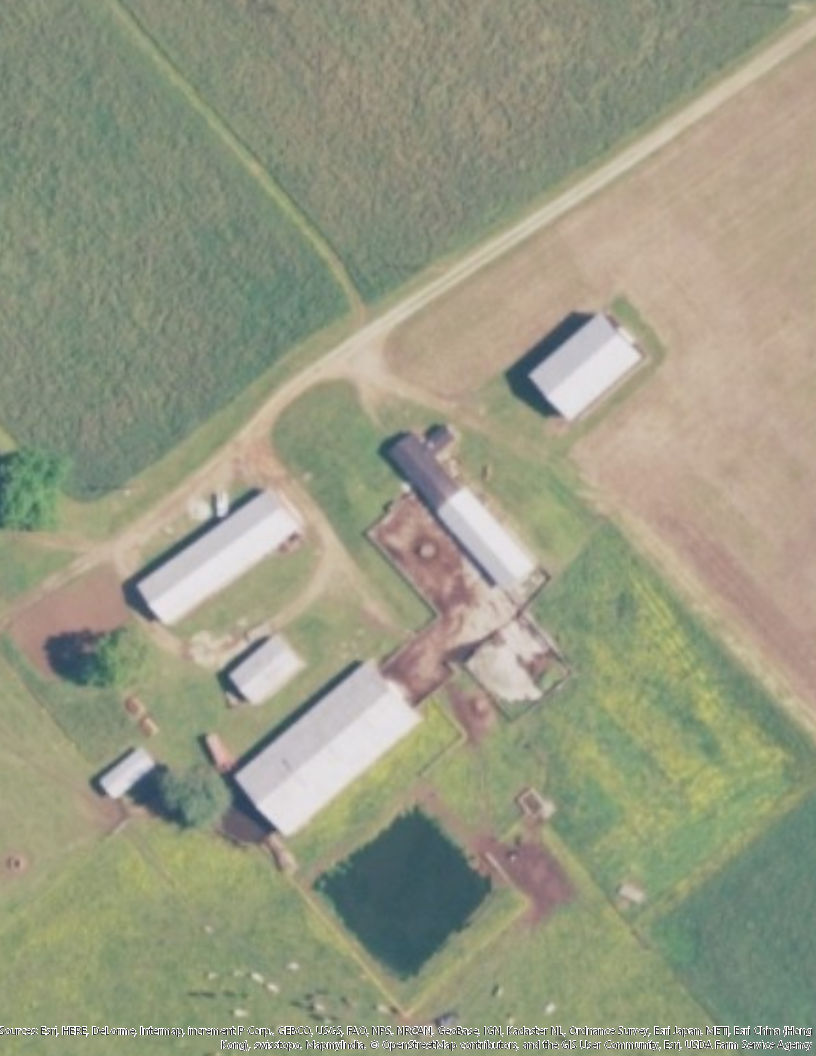cafo: (227, 646, 436, 845), (119, 474, 314, 627), (374, 424, 546, 596), (519, 301, 651, 431)
